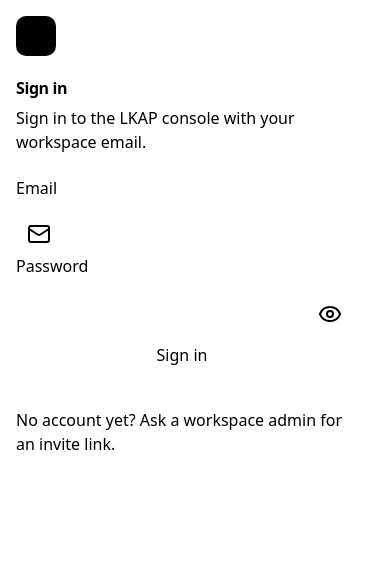
Test: LoginForm › says the server couldn't be reached when the request fails on the network
Type "owner@local" into the field labelled "Email" at {"x": 182, "y": 222}, box [16, 204, 348, 240]
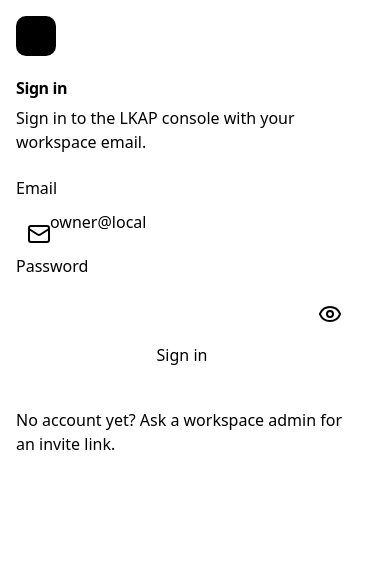
Type "hunter22" into the password field labelled "Password" at {"x": 182, "y": 300}, box [16, 282, 348, 318]
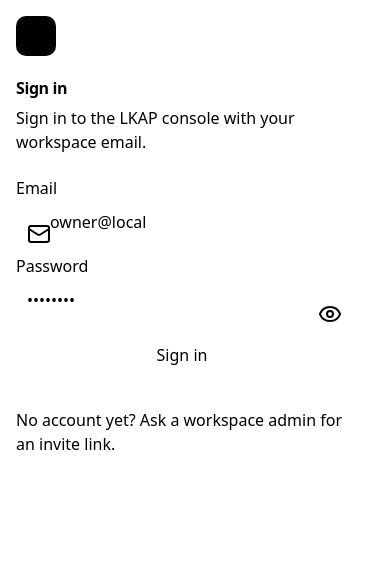
Click the button "Sign in" at {"x": 182, "y": 355}, box [16, 338, 348, 372]
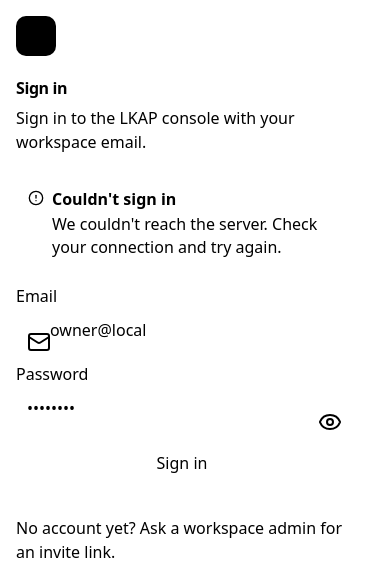
Result: the message shows "We couldn't reach the server. Check your connection and try again." at [52, 213, 317, 258]
